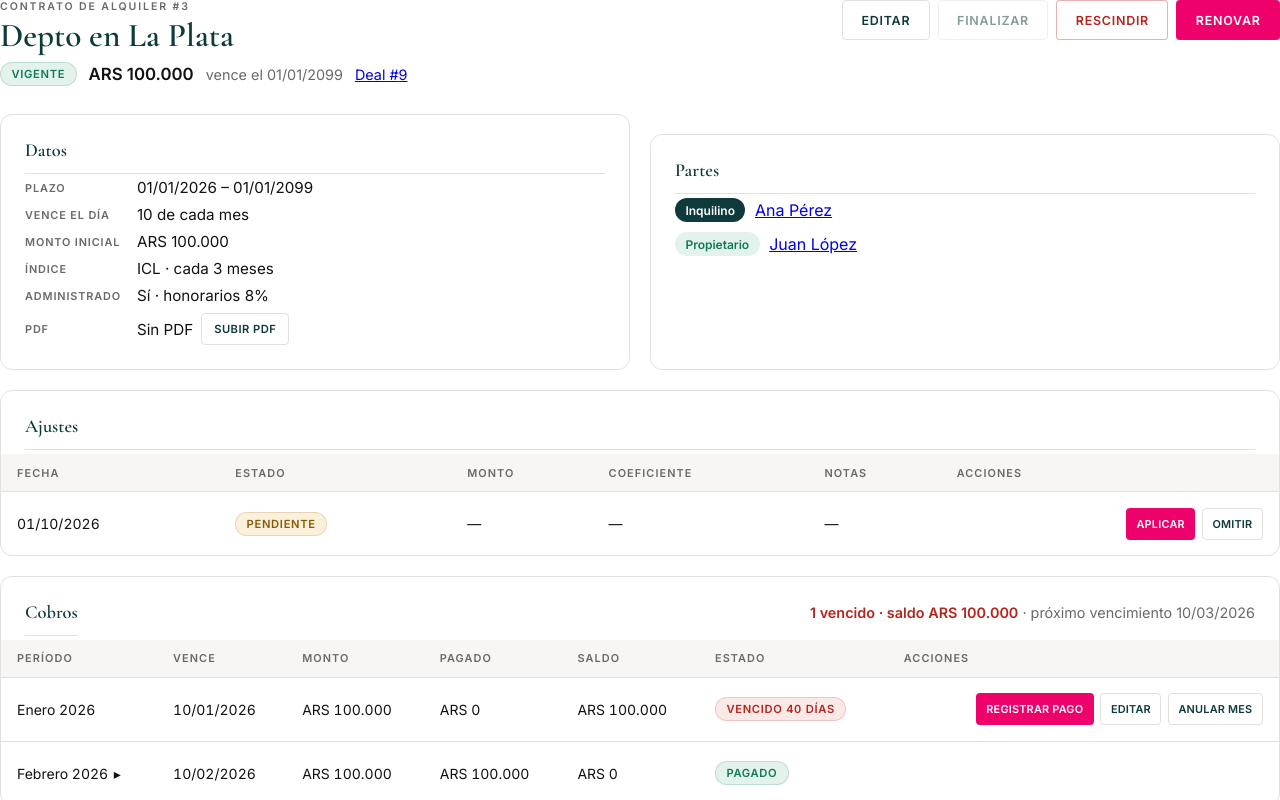
Test case: aplicar un ajuste avisa cuántos períodos con pagos no se actualizaron
Click the button "Aplicar".
click(1161, 524)  # box [1126,508,1195,540]
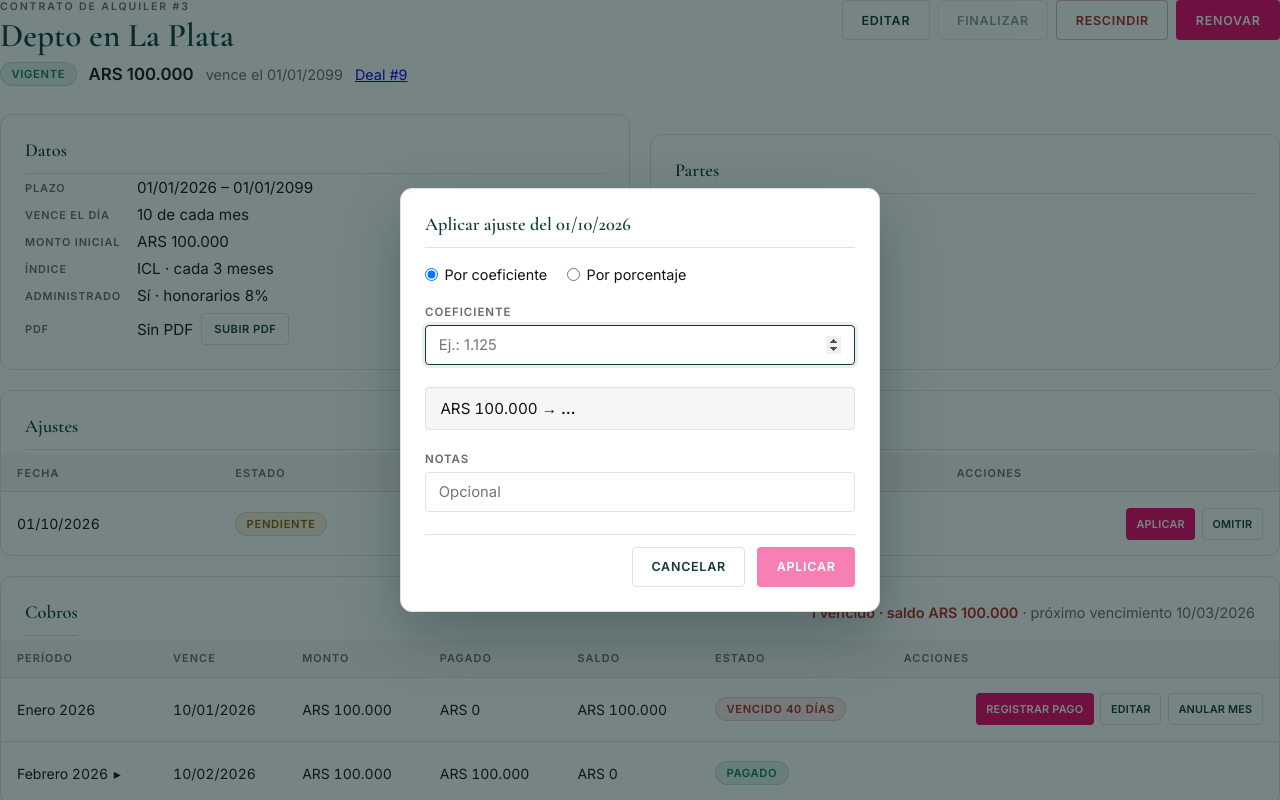
Type "1.1" into the number field labelled "Coeficiente".
click(640, 345); type("1.1")  # box [425,325,855,365]
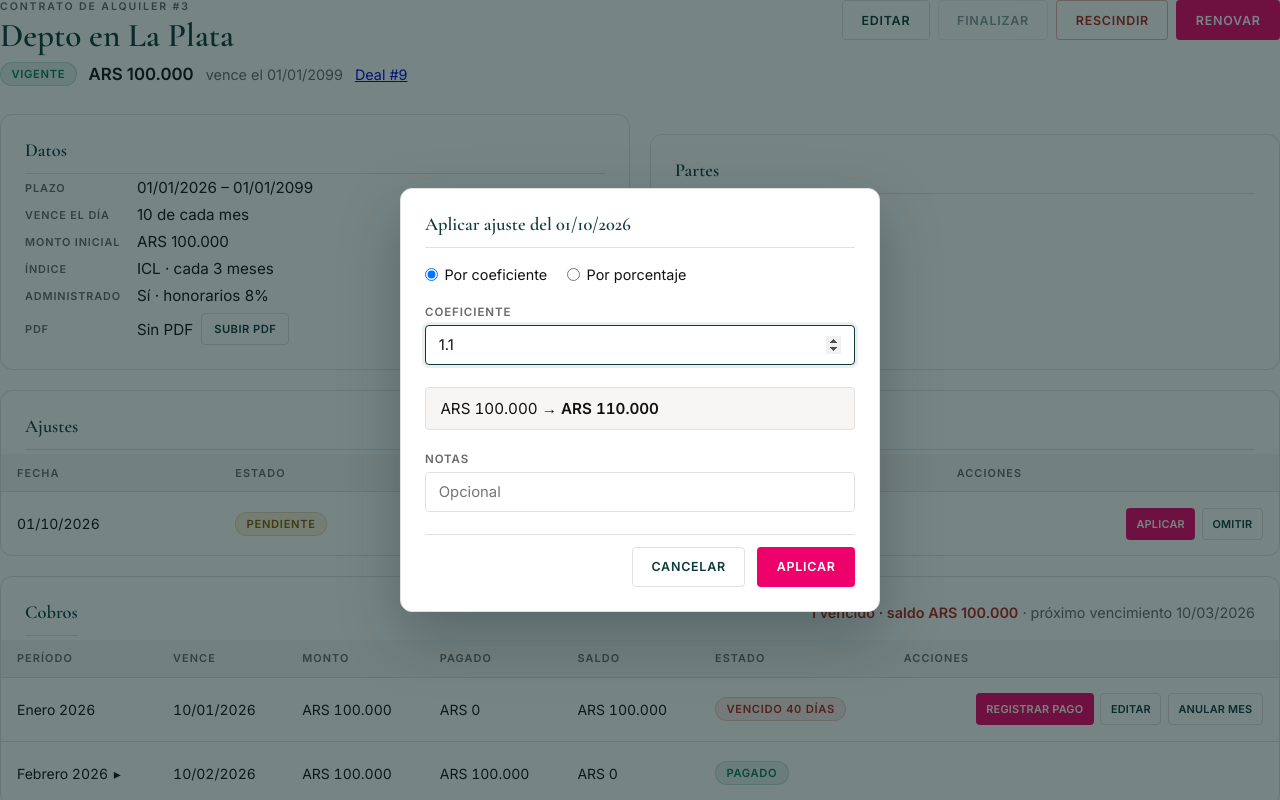
Click the button "Aplicar".
click(806, 567)  # box [757,547,855,587]
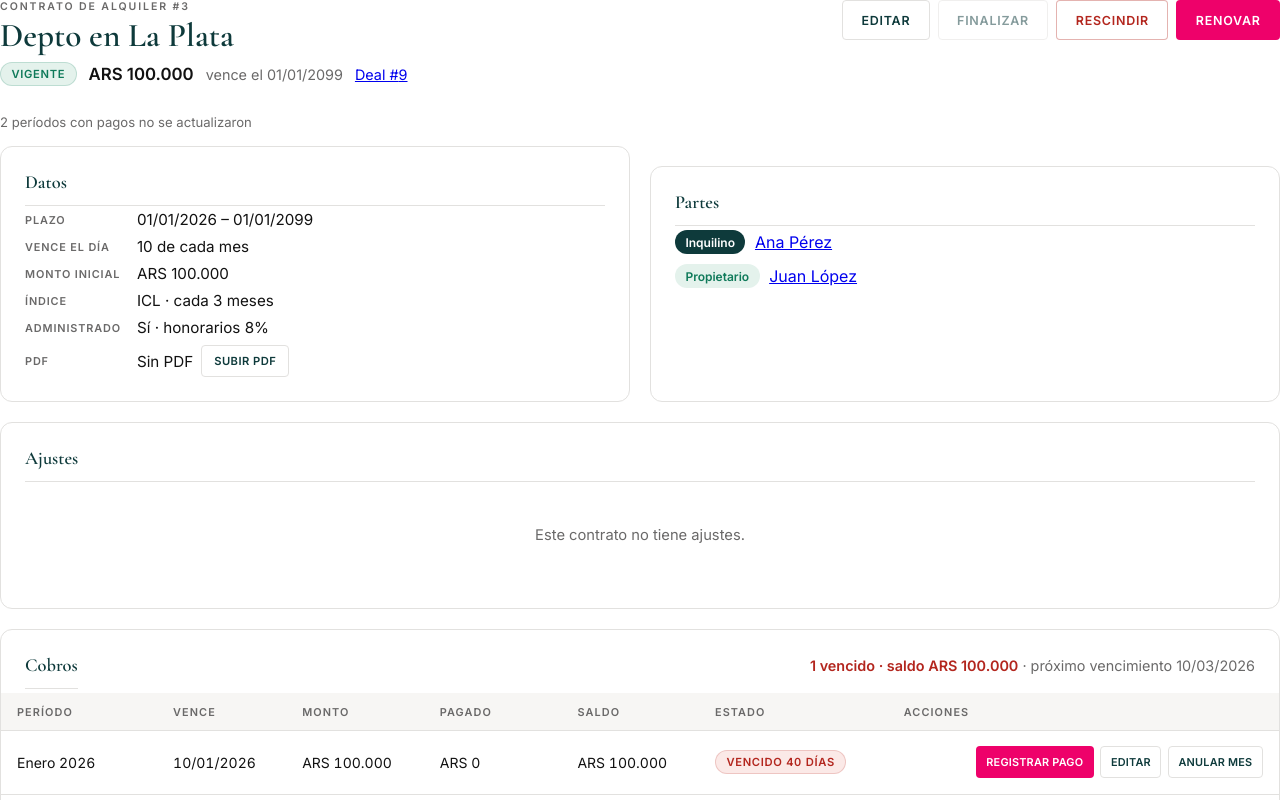
Expected: the message reads "2 períodos con pagos no se actualizaron", [0,114,252,130]
